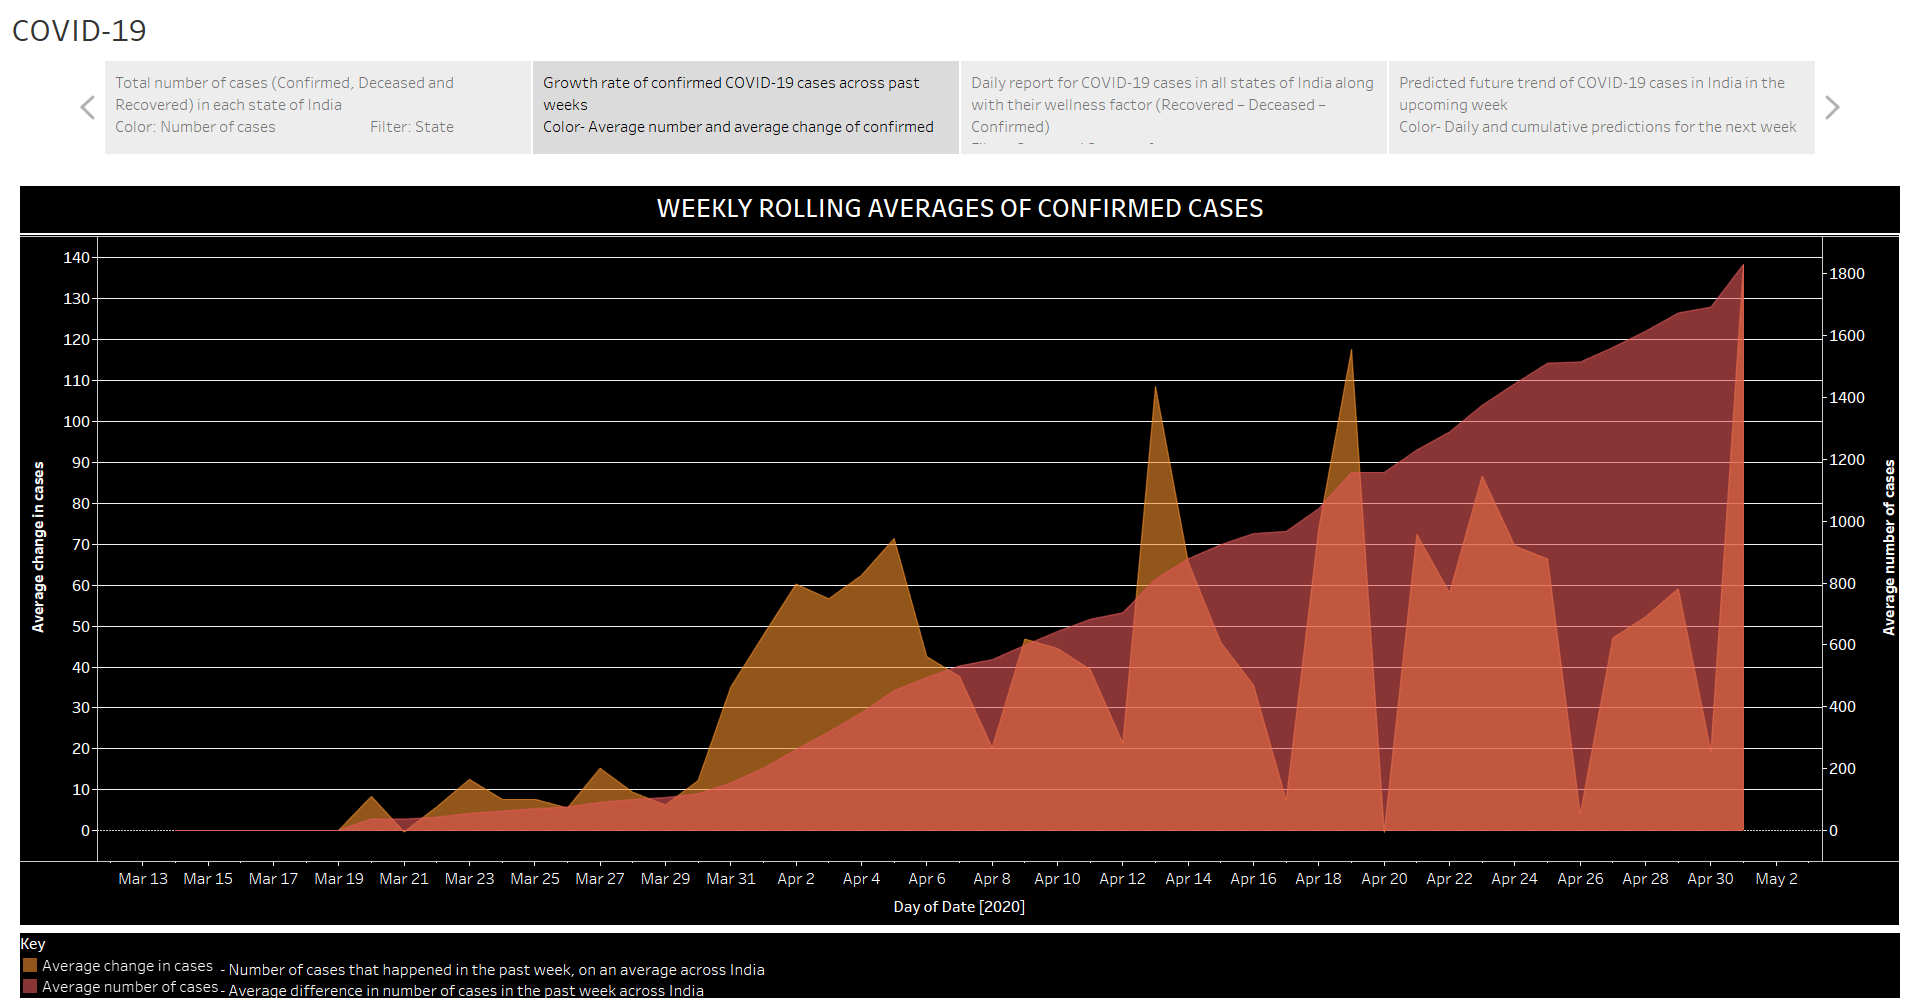

The dashboard page shown, as its layout file describes it:
{"tool":"tableau","page":{"name":"Weekly Rolling averages","canvas":[1000,1000],"units":"permille","ordinal":3},"visuals":[{"type":"worksheet","title":"Rolling average","mark":"Area","rows":["Cases_Delta_Avg","Cases_Avg"],"cols":["Date"],"box":[4.8,9.3,990.3,867.6]},{"type":"legend","title":"Rolling average","param":"[federated.1lmcdjy03esusc15qso7v0tbqxrd].[:Measure Names]","box":[4.8,876.9,990.3,84.8]}]}

Visuals, with their boxes on the dashboard's canvas, which has no fixed pixel size, in thousandths of its width and height (x1, y1, x2, y2). These are canvas units, not pixel positions in the 1920x1006 screenshot, which may show the page scaled, cropped or inside an application window:
"Rolling average" worksheet (Area marks): Rect(5, 9, 995, 877)
"Rolling average" legend: Rect(5, 877, 995, 962)
